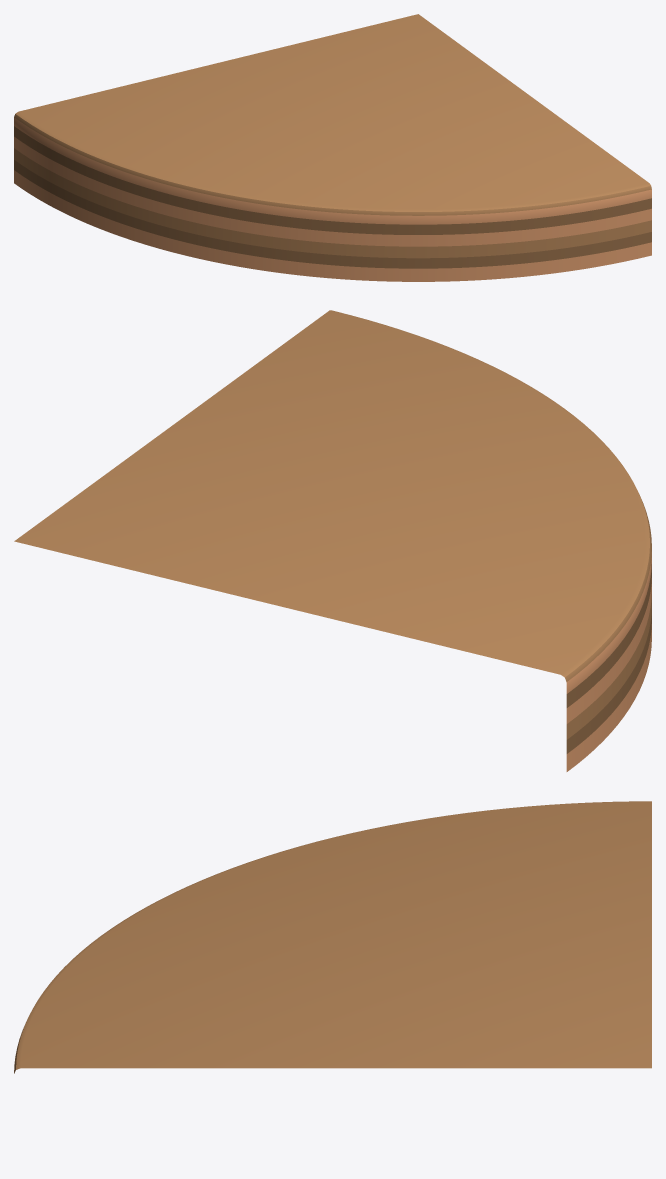
The model's file is platform_dirt_corner_round6_tall.gltf.
3 views of the same model, one above another, from view 1: azimuth 30°, elevation 25°; view 2: azimuth 150°, elevation 25°; view 3: azimuth 270°, elevation 25° (orthographic). The views are drawn at different scales.
Parts seen in each view (by area): view 1: Cube_Dirt_Corner_Round6_Tall; view 2: Cube_Dirt_Corner_Round6_Tall; view 3: Cube_Dirt_Corner_Round6_Tall.
Boxes of the visible parts, <box> form: Cube_Dirt_Corner_Round6_Tall: <box>14,14,651,281</box>; Cube_Dirt_Corner_Round6_Tall: <box>14,310,651,771</box>; Cube_Dirt_Corner_Round6_Tall: <box>14,801,651,1073</box>.
Size of the model in its own units: 12 by 2 by 12.
